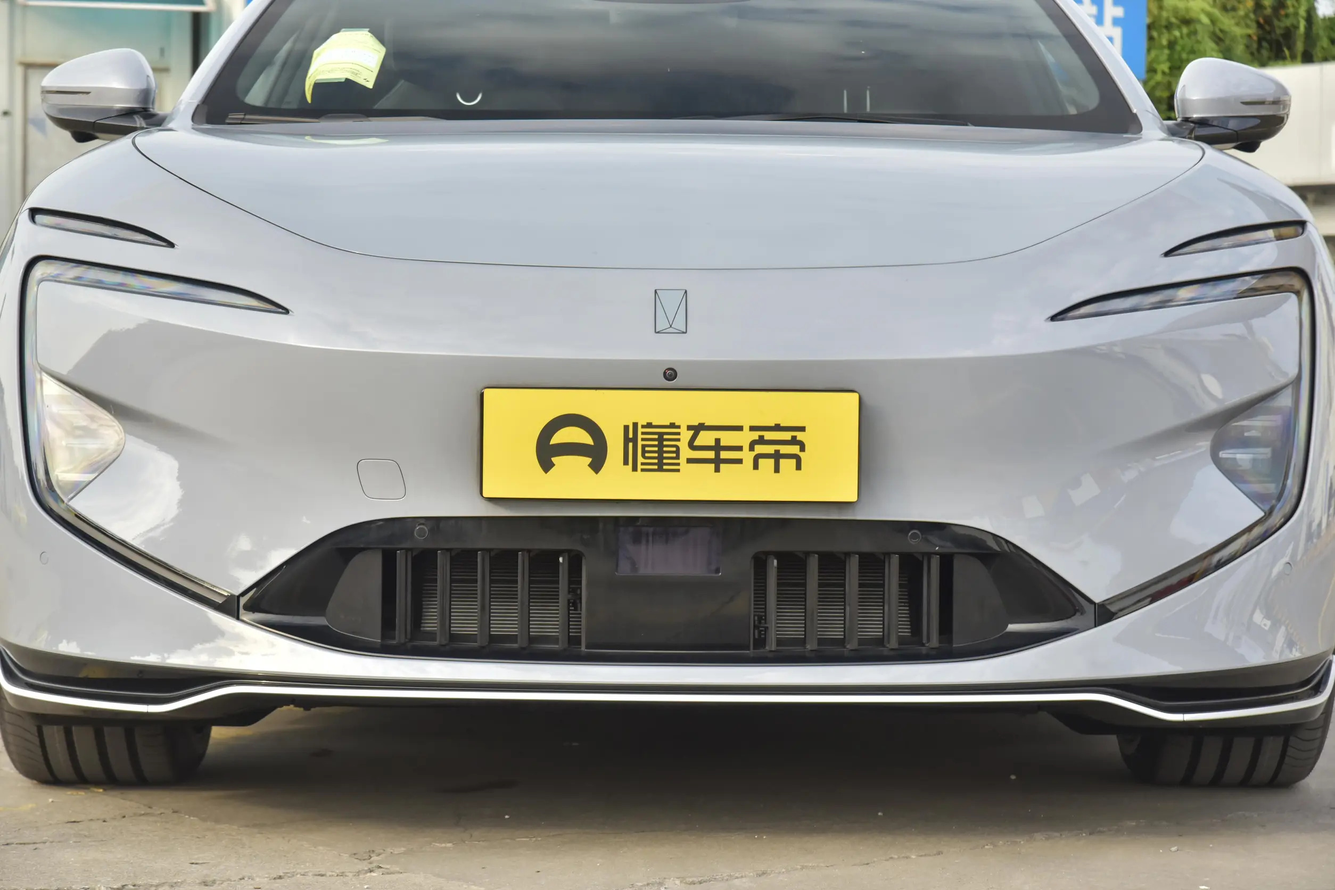AVATR: (655, 289, 687, 333)
